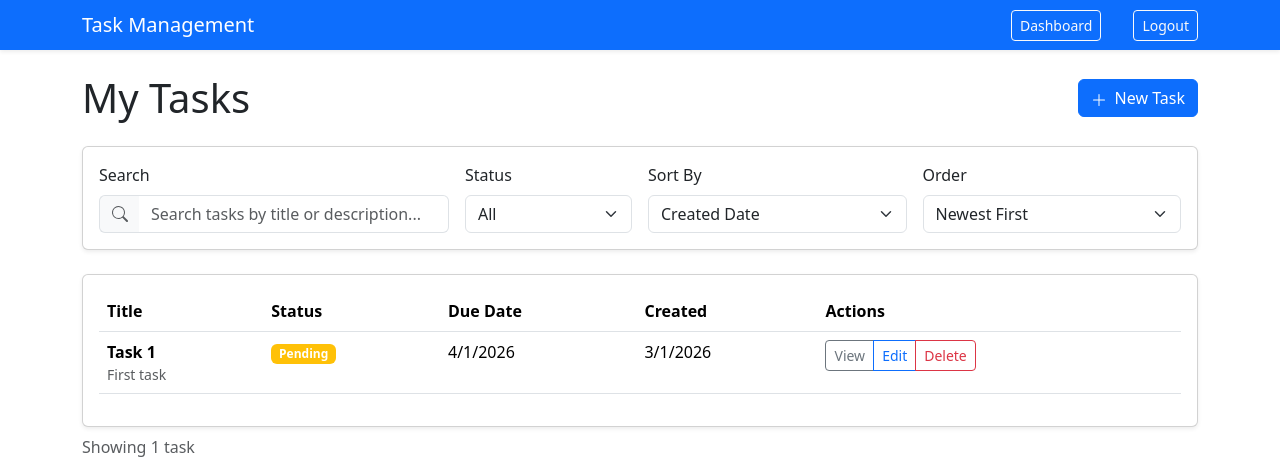
Scenario: TasksPage › test_search_results_count - Shows count of filtered results
Note: Search for something
Type "Task 1" into the search field with placeholder "Search tasks by title or description..." at (294, 214), box [139,195,449,233]
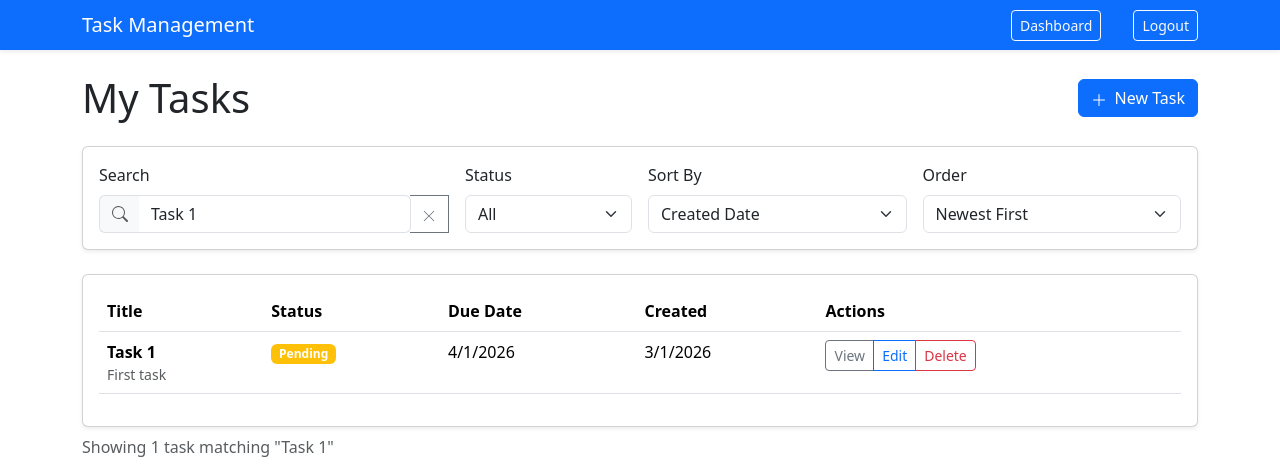
Check: the text "Showing 1 task matching \"Task 1\"" is shown, box [82,436,334,458]
